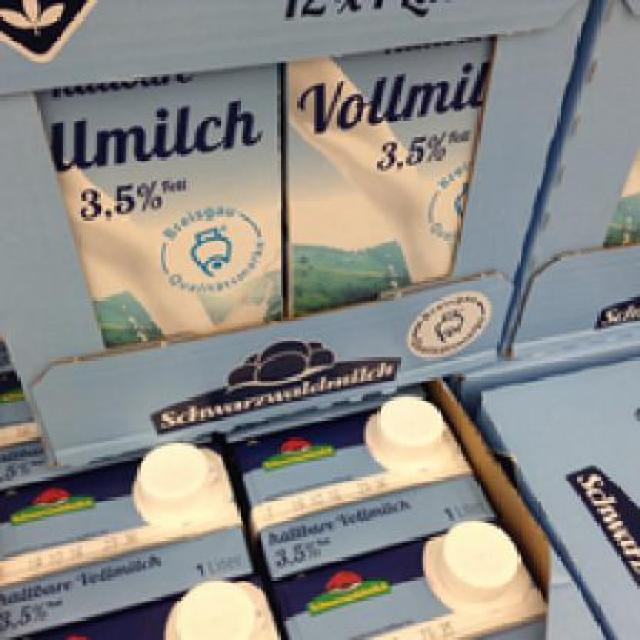Milk: (5, 60, 292, 357), (277, 31, 514, 327)
